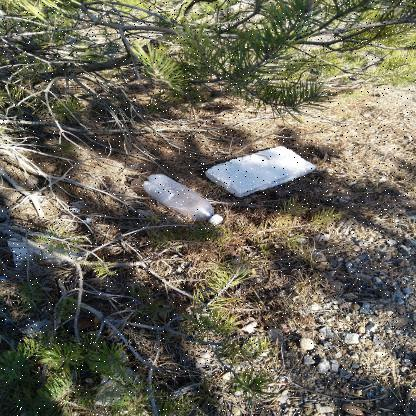foam: (206, 146, 316, 198)
plastic: (142, 174, 224, 226)
